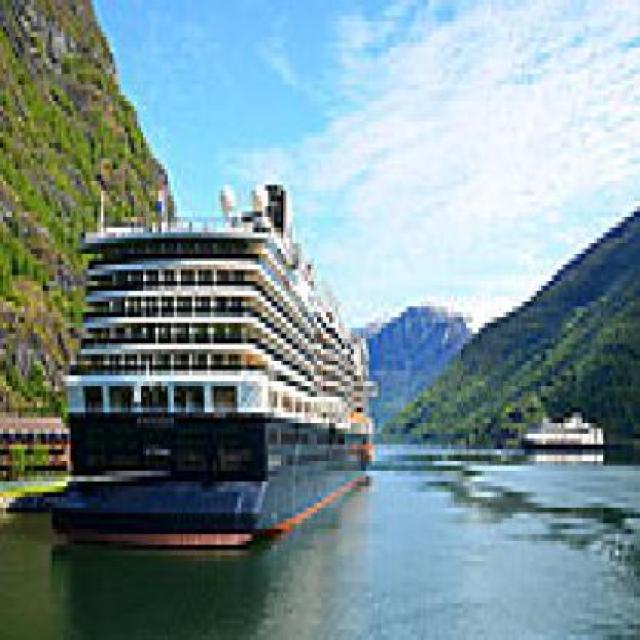cruise: (62, 170, 385, 561), (519, 398, 614, 472)
